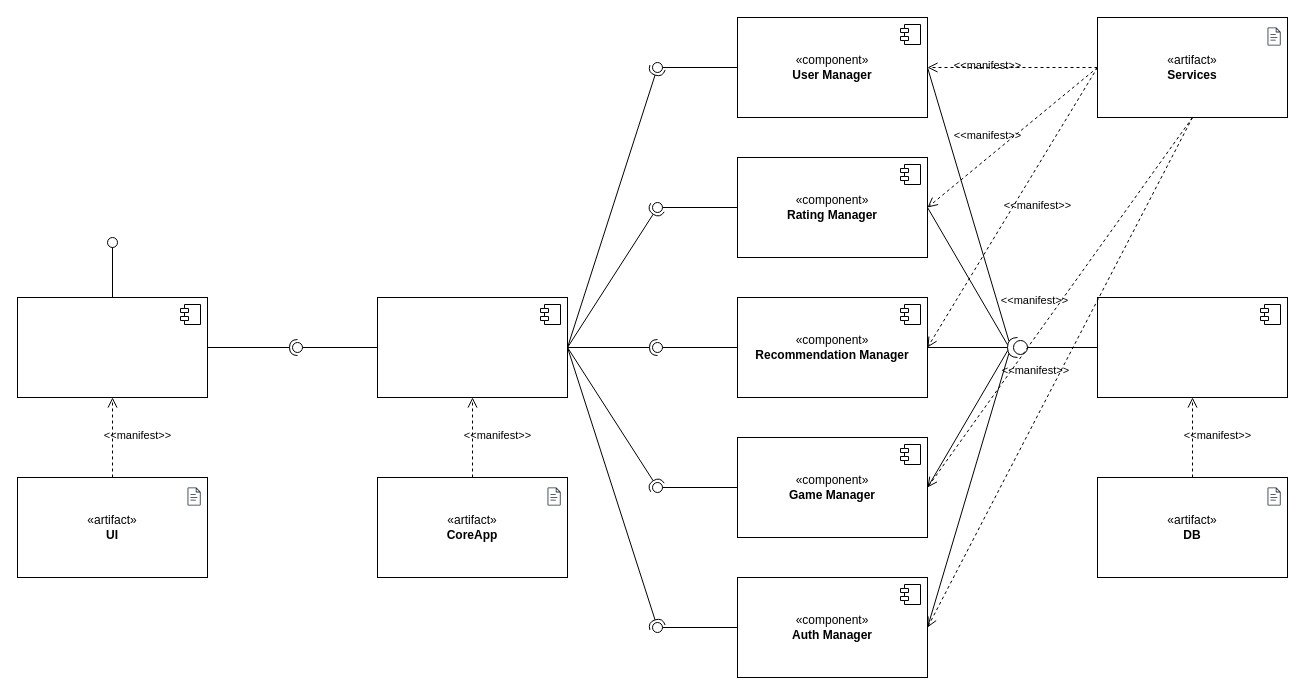
Image size: 1305x695. Some labels were removed from this diagram. The shapes that lost their labels are listed below. From the top down, each one's centre as x and y in pixels, then its label:
At point 112,347: "«component» User Interface".
At point 472,347: "«component» Core".
At point 1192,347: "«component» Database".
